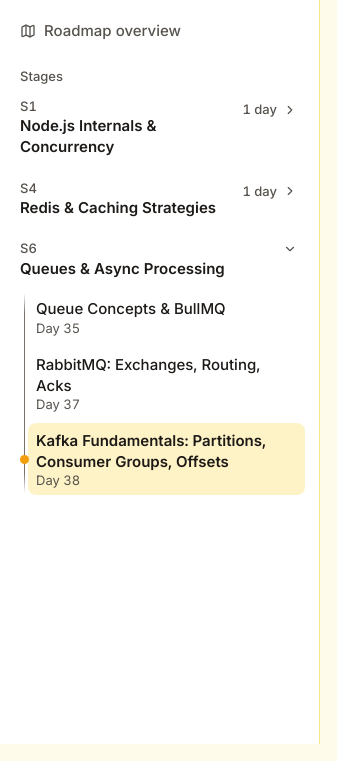
Sidebar timeline › keeps the current day visible when its stage is collapsed
Click the button "S6 Queues & Async Processing": coordinates (158, 260) [12, 232, 305, 287]
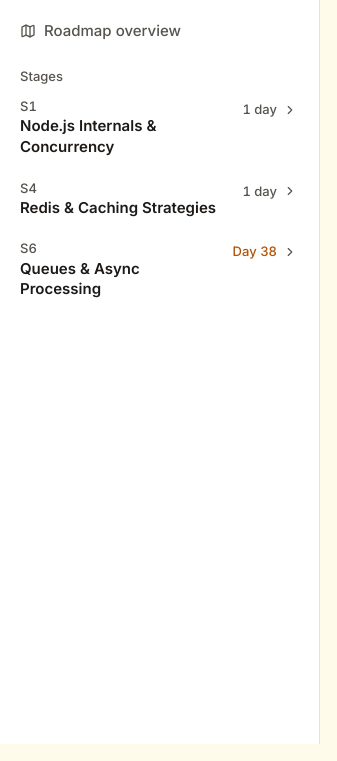
Result: the link "Kafka Fundamentals" is gone
Result: the button "S6 Queues & Async Processing Day 38" is shown at [12, 232, 305, 308]
Result: the button "S6 Queues & Async Processing Day 38" is collapsed at [12, 232, 305, 308]
